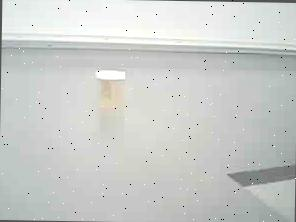Bottle B: (88, 65, 136, 120)
